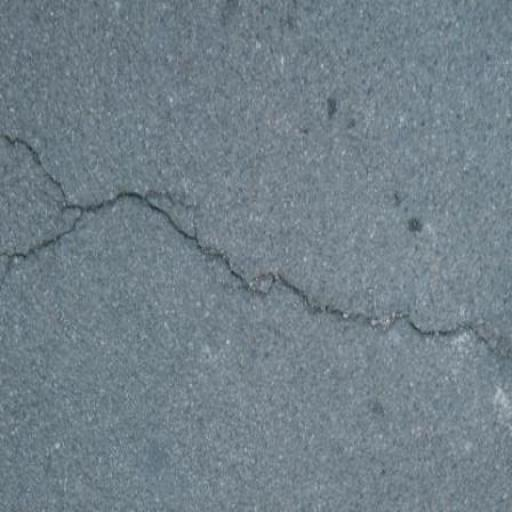spalling: (10, 171, 505, 378), (3, 110, 93, 223)
